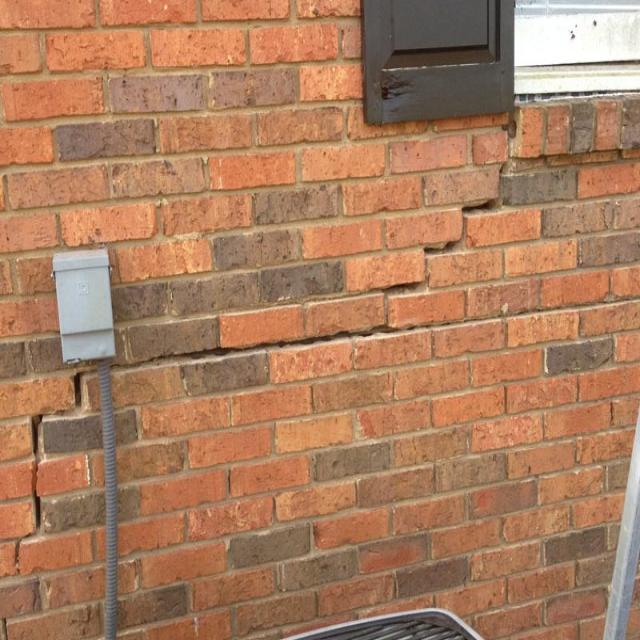Crack: (115, 152, 517, 376), (0, 364, 93, 581)
